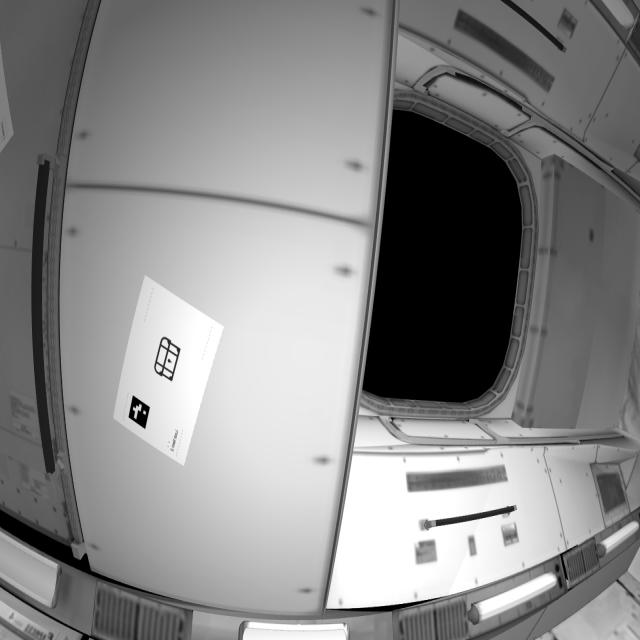treasure_box: (154, 333, 184, 385)
